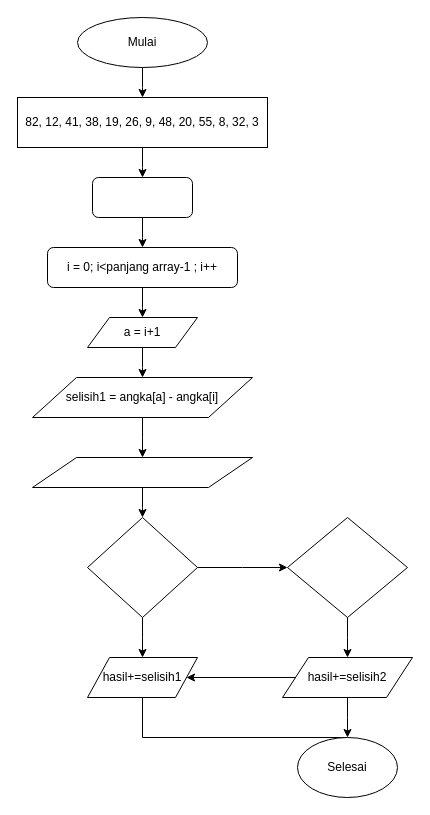
Some shapes in this 430 by 815 pixel diagram are drawn without their labels. Each missing label, with the centre of its shape:
"angka[a]>angka[i]" belongs at (x=142, y=567).
"angka[i]>angka[a]" belongs at (x=347, y=567).
"hasil=0" belongs at (x=142, y=197).
"selisih2 = angka[i] - angka[a]" belongs at (x=142, y=472).
